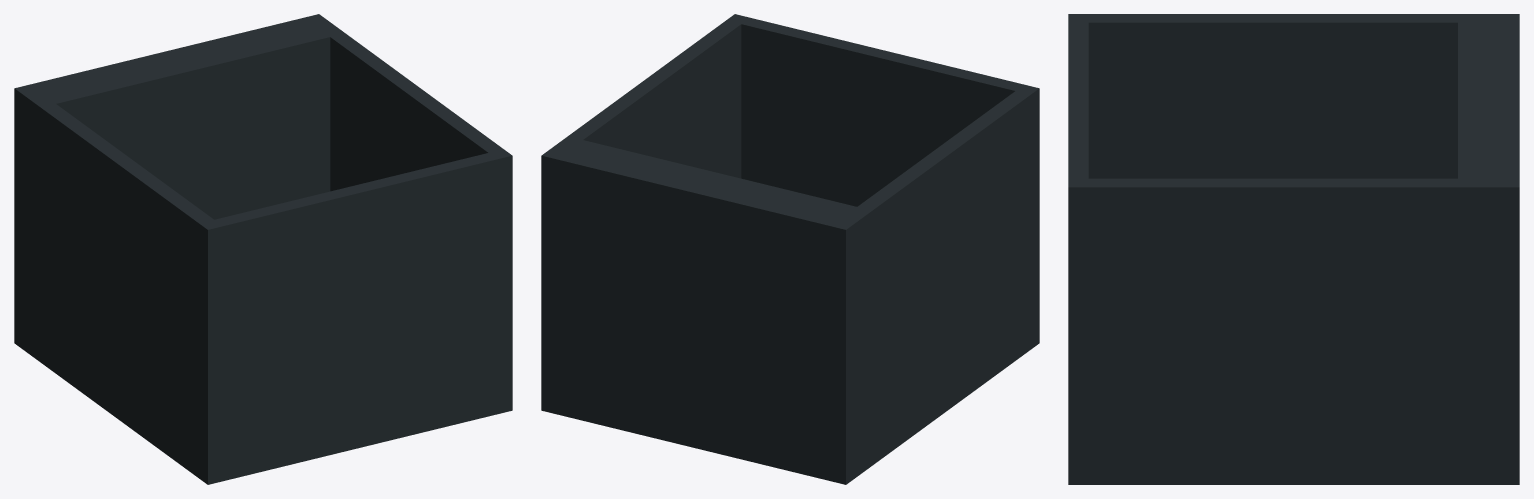
The model's file is shelf1.fbx.
The picture shows the model from 3 angles, left to right: view 1: azimuth 30°, elevation 25°; view 2: azimuth 150°, elevation 25°; view 3: azimuth 270°, elevation 25°; orthographic projection. The views are drawn at different scales.
Visible parts, largest first — view 1: Cube; view 2: Cube; view 3: Cube.
Part boxes in pixels (<box>): Cube: <box>14,14,512,484</box>; Cube: <box>541,14,1039,484</box>; Cube: <box>1068,14,1519,484</box>.
Bounding box in the file's own units: 200 × 160 × 220.
